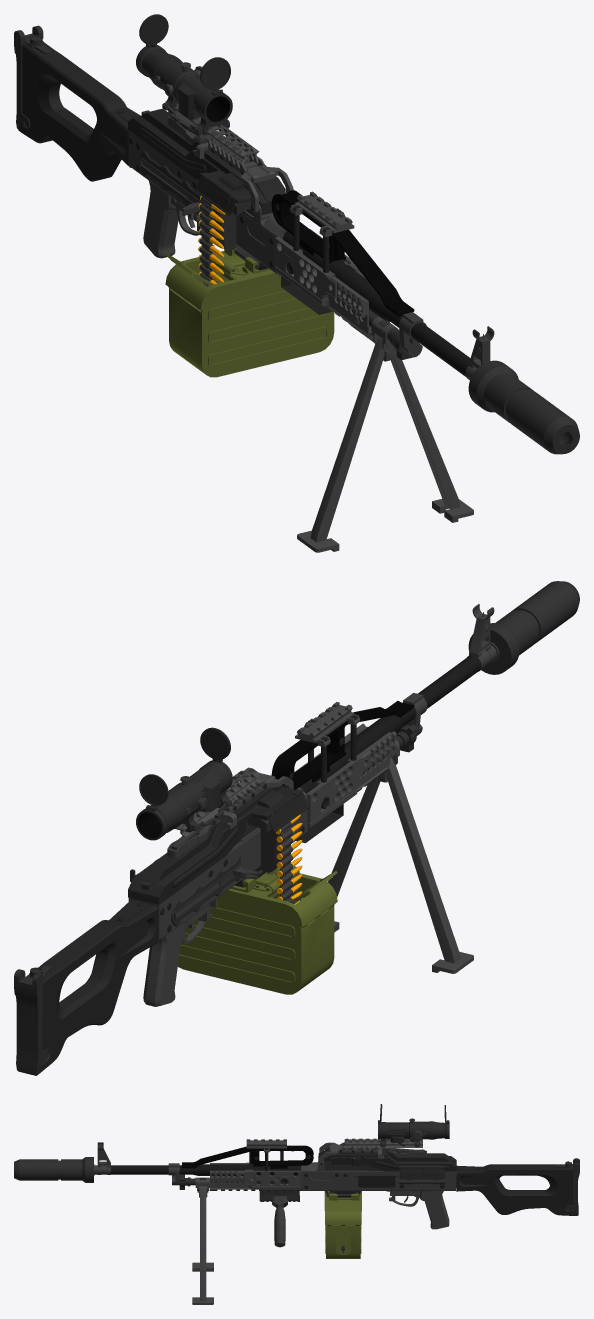
File: pkp.glb
3 views of the same model, one above another, from view 1: azimuth 30°, elevation 25°; view 2: azimuth 150°, elevation 25°; view 3: azimuth 270°, elevation 25° (orthographic). The views are drawn at different scales.
Bounding box in the file's own units: 2.93 × 5.99 × 16.94.
